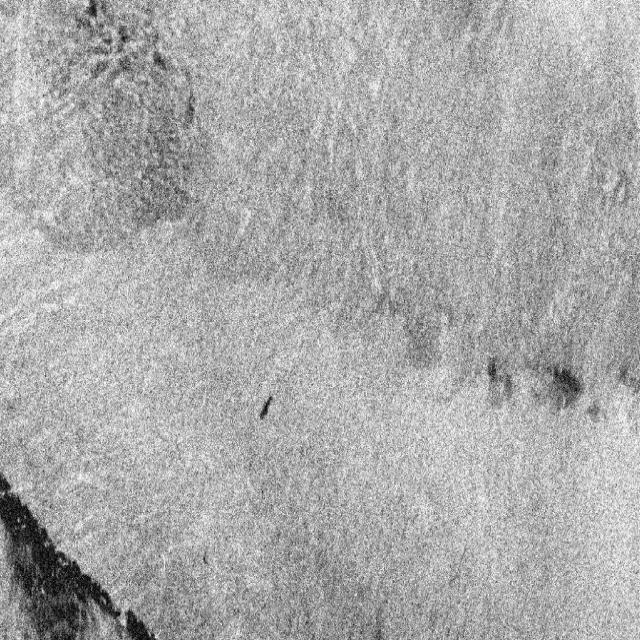look-alike: (1, 475, 154, 640), (540, 349, 584, 420), (483, 355, 514, 411), (104, 28, 136, 73), (178, 86, 202, 132), (151, 36, 171, 80), (80, 2, 102, 32)
oil-spill: (256, 390, 280, 431)
